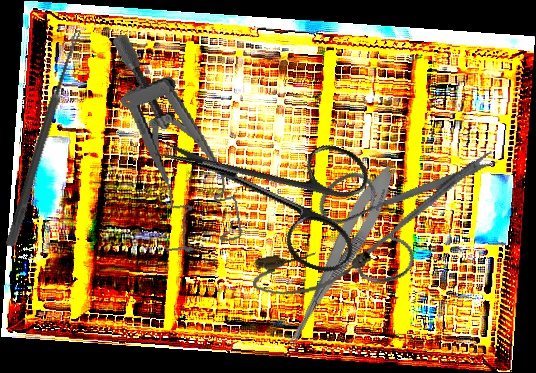Cannula: (249, 243, 375, 300)
Iris Scissors: (136, 91, 384, 280), (297, 96, 504, 310)
Micro Scissor: (278, 159, 403, 359)
Speculum: (109, 20, 245, 260)
Surgical Spoon: (5, 26, 83, 249)
